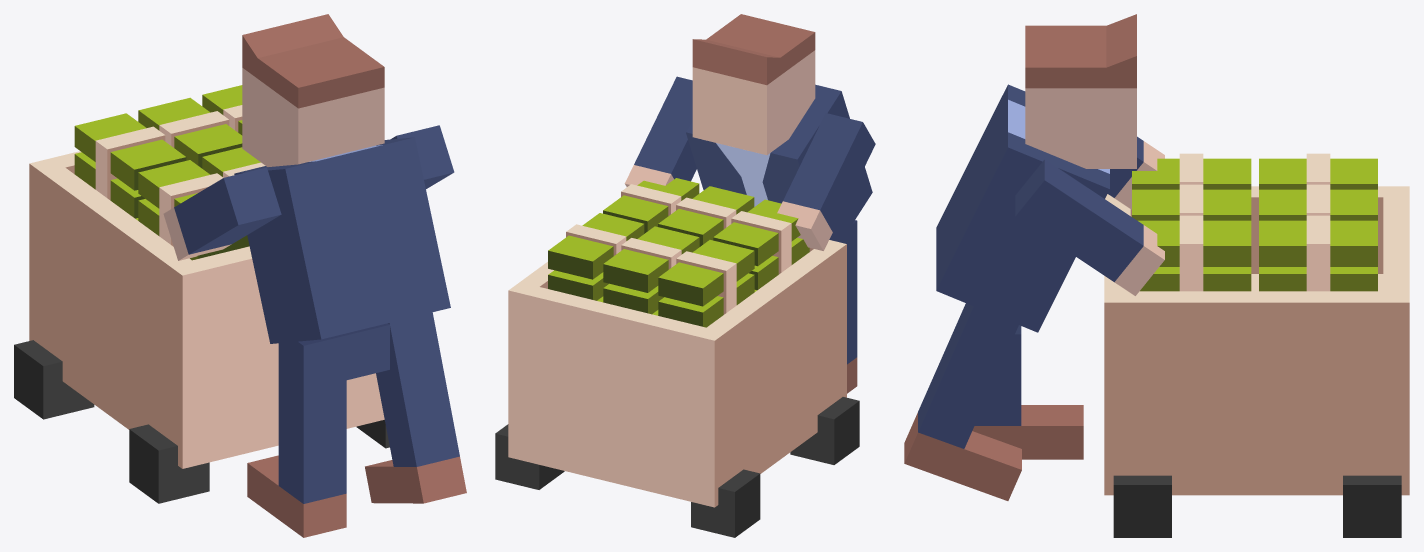
File: office-worker-jump-2.glb
3 views of the same model, side by side, from view 1: azimuth 30°, elevation 25°; view 2: azimuth 150°, elevation 25°; view 3: azimuth 270°, elevation 25° (orthographic). The views are drawn at different scales.
Parts seen in each view (by area): view 1: Cube.023, UNIT.097, UNIT.096, Cube.024, UNIT.095, UNIT.094, UNIT.093, UNIT.091, UNIT.092; view 2: Cube.023, Cube.024, UNIT.096, UNIT.097, UNIT.093, UNIT.092, UNIT.095; view 3: Cube.023, Cube.024, UNIT.097, UNIT.096, UNIT.094, UNIT.092, UNIT.095, UNIT.093.
Boxes of the visible parts, bbox=[...] form: Cube.023: bbox=[14, 151, 389, 503]; UNIT.097: bbox=[234, 137, 450, 343]; UNIT.096: bbox=[242, 14, 384, 166]; Cube.024: bbox=[74, 85, 265, 260]; UNIT.095: bbox=[247, 328, 346, 537]; UNIT.094: bbox=[365, 312, 466, 503]; UNIT.093: bbox=[163, 167, 281, 260]; UNIT.091: bbox=[345, 323, 389, 379]; UNIT.092: bbox=[390, 125, 454, 188]; Cube.023: bbox=[495, 240, 859, 537]; Cube.024: bbox=[548, 178, 809, 327]; UNIT.096: bbox=[692, 14, 815, 155]; UNIT.097: bbox=[686, 84, 872, 241]; UNIT.093: bbox=[777, 113, 875, 250]; UNIT.092: bbox=[624, 76, 696, 186]; UNIT.095: bbox=[836, 220, 857, 393]; Cube.023: bbox=[1104, 186, 1409, 537]; Cube.024: bbox=[1132, 153, 1377, 291]; UNIT.097: bbox=[936, 84, 1109, 332]; UNIT.096: bbox=[1025, 14, 1136, 168]; UNIT.094: bbox=[904, 286, 1021, 500]; UNIT.092: bbox=[1015, 159, 1164, 295]; UNIT.095: bbox=[972, 334, 1083, 459]; UNIT.093: bbox=[1107, 136, 1164, 209].
Size of the model in its own units: 0.9007 by 1.35 by 1.42.
Materials: 3 (3 with a texture image).
